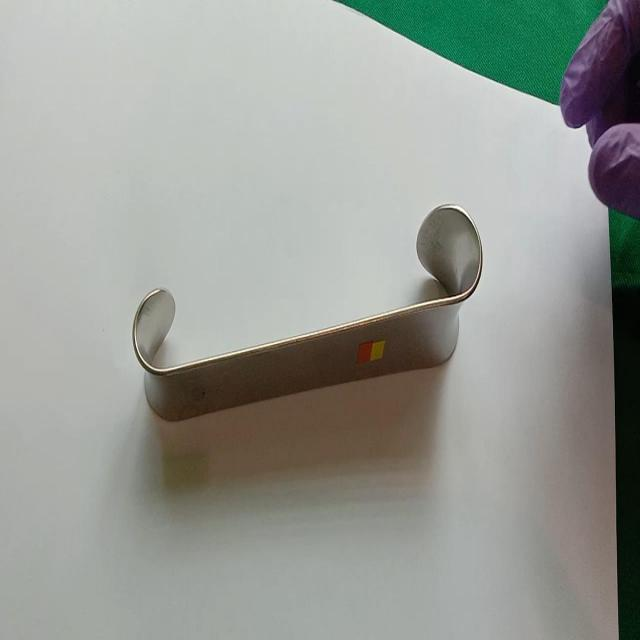CheekRetractor: (130, 202, 483, 422)
